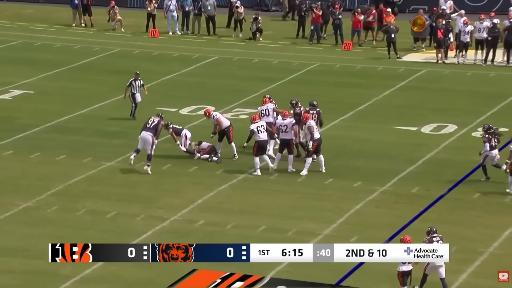Helmet: (482, 124, 494, 133), (250, 114, 260, 124), (426, 227, 437, 236), (400, 235, 411, 243), (302, 114, 311, 123), (204, 109, 212, 118), (290, 100, 299, 108), (309, 101, 318, 108), (164, 122, 172, 129), (262, 98, 270, 105), (156, 113, 164, 120), (282, 111, 289, 118)
Jersey: (276, 118, 295, 139), (143, 117, 161, 136), (250, 121, 267, 141), (304, 120, 320, 141), (211, 112, 230, 129), (258, 104, 274, 122), (305, 108, 321, 125), (483, 135, 499, 151), (291, 106, 303, 125), (196, 142, 211, 154), (424, 234, 443, 243), (171, 125, 184, 136), (398, 263, 412, 271), (274, 113, 280, 122)
Player: (130, 114, 163, 174), (244, 115, 274, 175), (204, 109, 238, 159), (301, 114, 325, 175), (274, 112, 298, 172), (258, 98, 282, 158), (479, 125, 502, 180), (164, 122, 194, 154), (290, 100, 306, 157), (474, 15, 490, 63), (457, 19, 474, 63), (420, 263, 447, 287), (192, 142, 221, 163), (304, 101, 323, 129), (304, 101, 323, 128), (502, 146, 511, 193), (398, 263, 413, 287), (502, 13, 511, 39), (264, 95, 278, 109), (486, 12, 499, 26)
